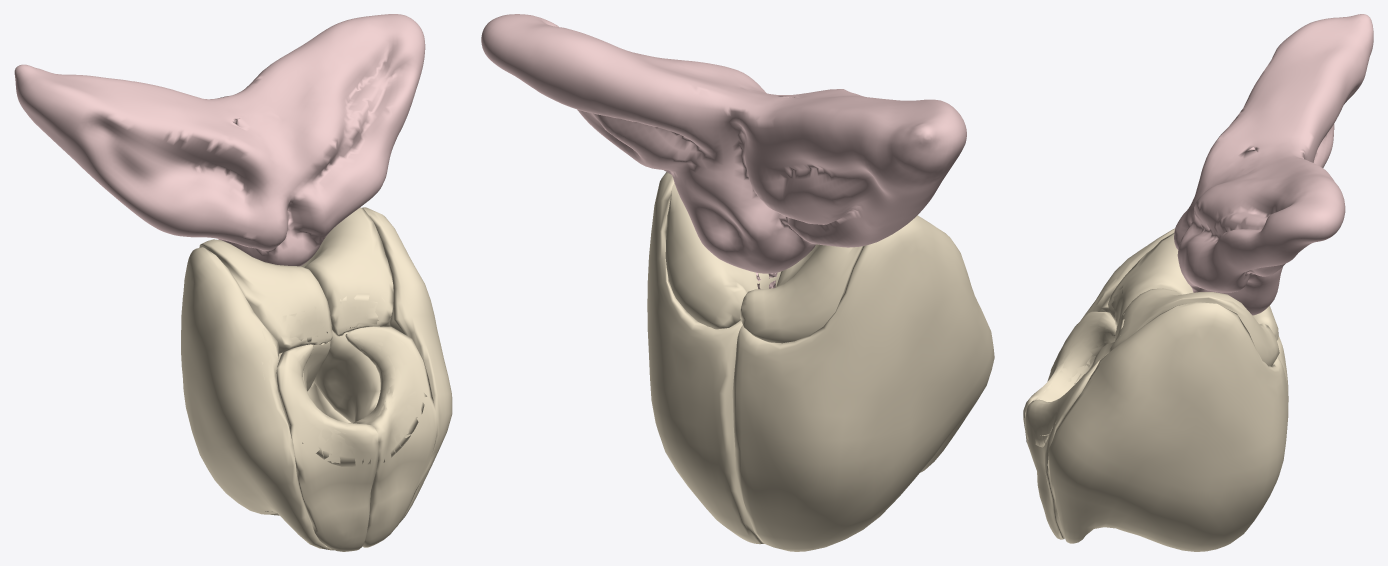
3 views of the same model, side by side, from view 1: azimuth 30°, elevation 25°; view 2: azimuth 150°, elevation 25°; view 3: azimuth 270°, elevation 25° (orthographic). The views are drawn at different scales.
Visible parts, largest first — view 1: VH_M_seminal_vesicle, VH_M_peripheral_zone_of_prostate_R, VH_M_anterior_fibromuscular_stroma_R, VH_M_anterior_fibromuscular_stroma_L, VH_M_central_zone_of_prostate_L, VH_M_peripheral_zone_of_prostate_L, VH_M_central_zone_of_prostate_R, VH_M_base_of_prostate, VH_M_transition_zone__of_prostate_L, VH_M_transition_zone_of_prostate_R; view 2: VH_M_seminal_vesicle, VH_M_peripheral_zone_of_prostate_R, VH_M_peripheral_zone_of_prostate_L, VH_M_central_zone_of_prostate_R, VH_M_central_zone_of_prostate_L; view 3: VH_M_peripheral_zone_of_prostate_L, VH_M_seminal_vesicle, VH_M_central_zone_of_prostate_L, VH_M_central_zone_of_prostate_R, VH_M_anterior_fibromuscular_stroma_L, VH_M_anterior_fibromuscular_stroma_R, VH_M_base_of_prostate, VH_M_peripheral_zone_of_prostate_R.
Boxes of the visible parts, left/top/right/bottom form: VH_M_seminal_vesicle: left=14, top=14, right=425, bottom=266; VH_M_peripheral_zone_of_prostate_R: left=181, top=247, right=334, bottom=550; VH_M_anterior_fibromuscular_stroma_R: left=276, top=344, right=378, bottom=551; VH_M_anterior_fibromuscular_stroma_L: left=345, top=326, right=436, bottom=547; VH_M_central_zone_of_prostate_L: left=301, top=207, right=393, bottom=382; VH_M_peripheral_zone_of_prostate_L: left=307, top=207, right=452, bottom=522; VH_M_central_zone_of_prostate_R: left=199, top=239, right=332, bottom=353; VH_M_base_of_prostate: left=261, top=293, right=426, bottom=466; VH_M_transition_zone__of_prostate_L: left=314, top=330, right=380, bottom=423; VH_M_transition_zone_of_prostate_R: left=277, top=341, right=330, bottom=391; VH_M_seminal_vesicle: left=481, top=14, right=966, bottom=273; VH_M_peripheral_zone_of_prostate_R: left=732, top=215, right=994, bottom=551; VH_M_peripheral_zone_of_prostate_L: left=647, top=172, right=764, bottom=544; VH_M_central_zone_of_prostate_R: left=740, top=244, right=862, bottom=343; VH_M_central_zone_of_prostate_L: left=665, top=183, right=781, bottom=329; VH_M_peripheral_zone_of_prostate_L: left=1047, top=301, right=1288, bottom=551; VH_M_seminal_vesicle: left=1174, top=14, right=1373, bottom=315; VH_M_central_zone_of_prostate_L: left=1108, top=288, right=1279, bottom=365; VH_M_central_zone_of_prostate_R: left=1108, top=233, right=1278, bottom=340; VH_M_anterior_fibromuscular_stroma_L: left=1024, top=352, right=1108, bottom=539; VH_M_anterior_fibromuscular_stroma_R: left=1023, top=311, right=1116, bottom=442; VH_M_base_of_prostate: left=1027, top=278, right=1124, bottom=447; VH_M_peripheral_zone_of_prostate_R: left=1050, top=228, right=1288, bottom=398.
Bounding box in the file's own units: 0.0515 × 0.0552 × 0.0404.
